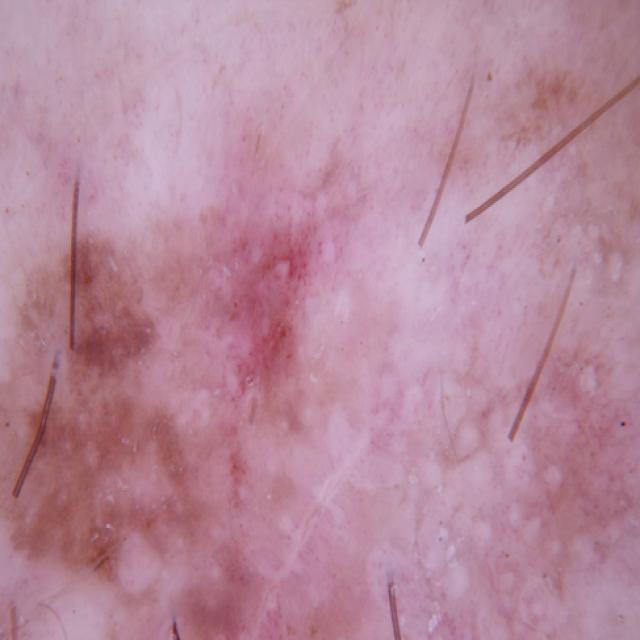Keratosis: (0, 203, 196, 621), (226, 250, 427, 640), (485, 391, 640, 640)
